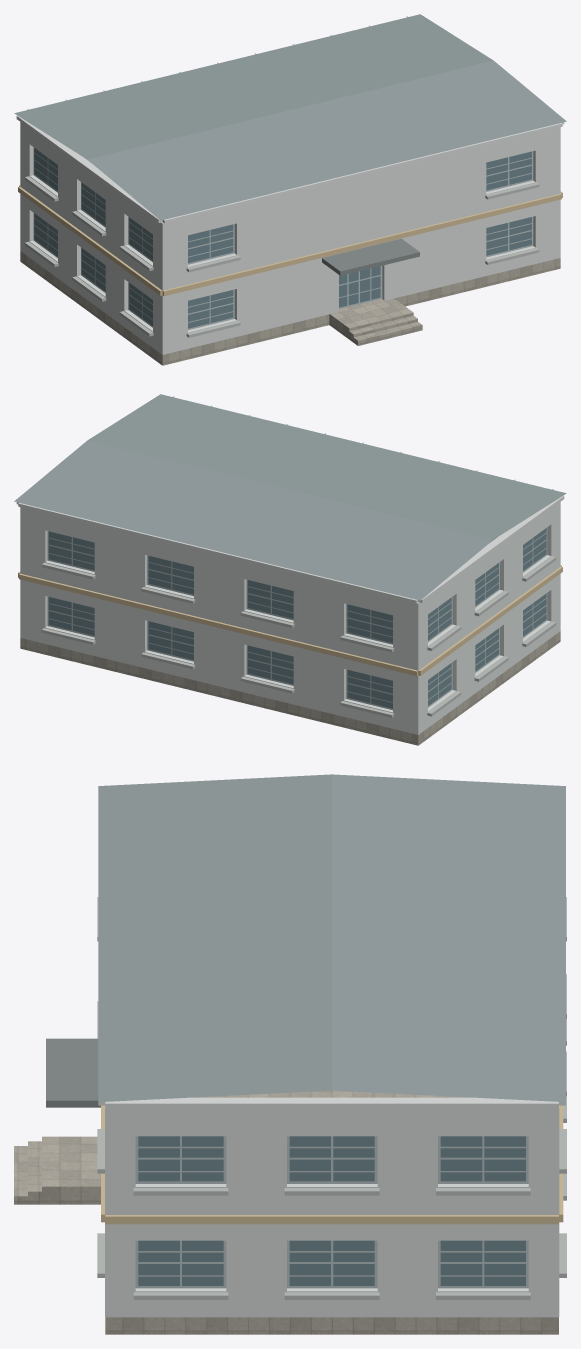
The picture shows the model from 3 angles, top to bottom: view 1: azimuth 30°, elevation 25°; view 2: azimuth 150°, elevation 25°; view 3: azimuth 270°, elevation 25°; orthographic projection. The views are drawn at different scales.
Visible parts, largest first — view 1: annex__metalroof, annex__panel, annex__glass, annex__stone, annex__band, annex__frame, annex__cap, annex__sill, annex__entrance, annex__stair-front, annex__threshold-front; view 2: annex__metalroof, annex__panel, annex__glass, annex__stone, annex__frame, annex__sill, annex__band, annex__cap; view 3: annex__metalroof, annex__panel, annex__glass, annex__stone, annex__frame, annex__sill, annex__band, annex__cap, annex__entrance, annex__threshold-front, annex__stair-front.
Boxes of the visible parts, <box> form: annex__metalroof: <box>14,14,566,220</box>; annex__panel: <box>20,122,560,354</box>; annex__glass: <box>34,148,531,328</box>; annex__stone: <box>20,251,560,365</box>; annex__band: <box>18,185,562,296</box>; annex__frame: <box>33,147,533,330</box>; annex__cap: <box>16,115,564,223</box>; annex__sill: <box>24,176,539,337</box>; annex__entrance: <box>322,238,419,275</box>; annex__stair-front: <box>345,309,422,345</box>; annex__threshold-front: <box>329,298,408,336</box>; annex__metalroof: <box>14,394,566,600</box>; annex__panel: <box>20,502,560,734</box>; annex__glass: <box>49,528,546,708</box>; annex__stone: <box>20,631,560,745</box>; annex__frame: <box>47,527,547,710</box>; annex__sill: <box>41,556,556,717</box>; annex__band: <box>18,565,562,676</box>; annex__cap: <box>16,495,564,603</box>; annex__metalroof: <box>98,774,565,1102</box>; annex__panel: <box>105,1106,559,1317</box>; annex__glass: <box>138,1136,525,1285</box>; annex__stone: <box>105,1090,558,1334</box>; annex__frame: <box>135,1136,528,1288</box>; annex__sill: <box>97,897,566,1299</box>; annex__band: <box>101,1105,563,1224</box>; annex__cap: <box>98,1097,565,1108</box>; annex__entrance: <box>46,1038,100,1107</box>; annex__threshold-front: <box>56,1136,100,1204</box>; annex__stair-front: <box>14,1136,55,1204</box>.
Size of the model in its own units: 21.46 by 7.87 by 15.85.
Materials: 9 (1 with a texture image).
